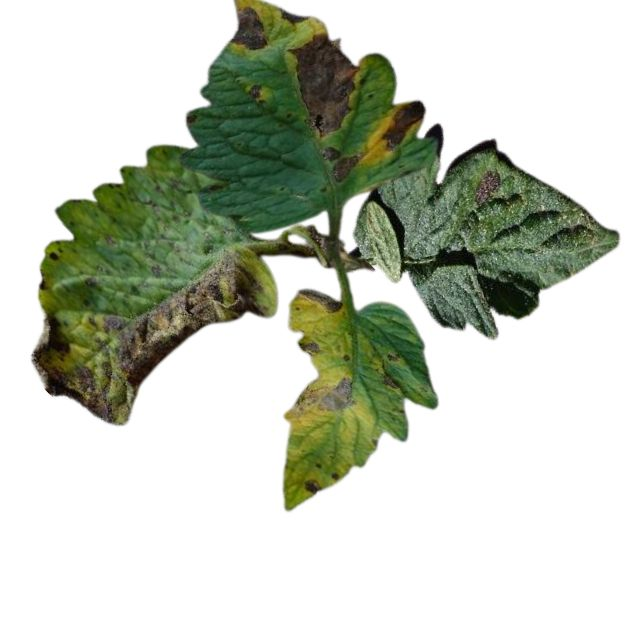Early_blight: (30, 246, 279, 427), (287, 30, 362, 140), (292, 374, 359, 414), (376, 101, 426, 151), (229, 5, 269, 52), (320, 146, 359, 182), (299, 286, 344, 313), (473, 166, 502, 203), (277, 7, 310, 24), (383, 369, 404, 392), (245, 82, 263, 105), (304, 475, 321, 496), (300, 338, 320, 355)
